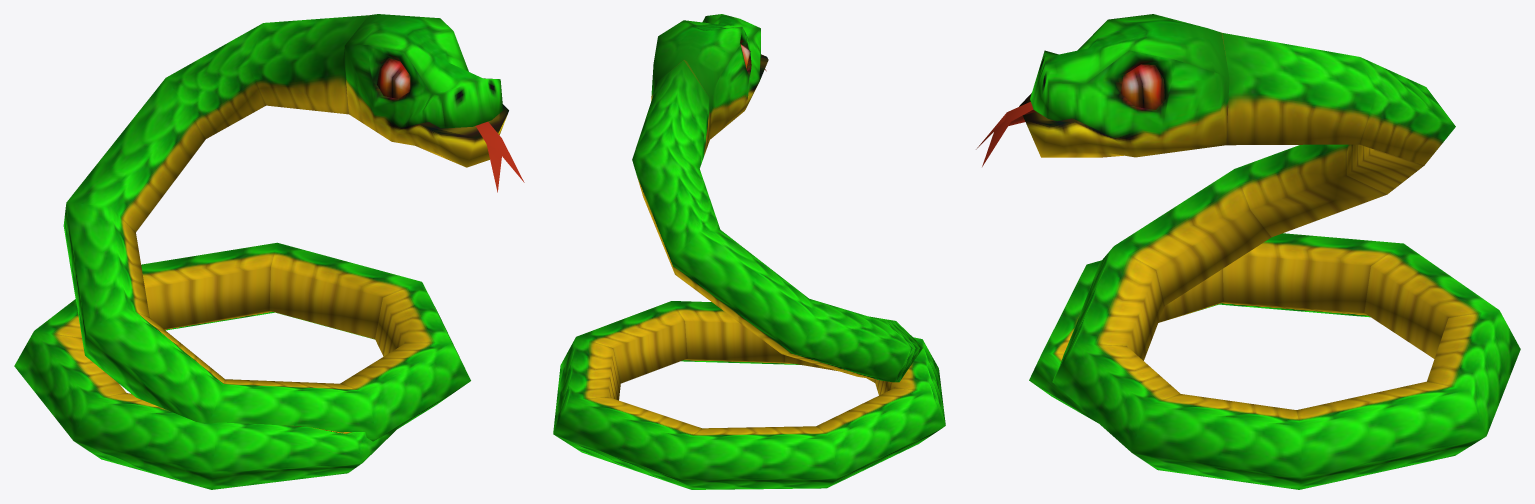
File: Personage_Snake.FBX
3 views of the same model, side by side, from view 1: azimuth 30°, elevation 25°; view 2: azimuth 150°, elevation 25°; view 3: azimuth 270°, elevation 25° (orthographic). The views are drawn at different scales.
Visible parts, largest first — view 1: Snake; view 2: Snake; view 3: Snake.
Part boxes in pixels (<box>): Snake: <box>14,14,524,489</box>; Snake: <box>553,14,945,489</box>; Snake: <box>976,14,1520,489</box>.
Size of the model in its own units: 44.53 by 40.84 by 47.23.
